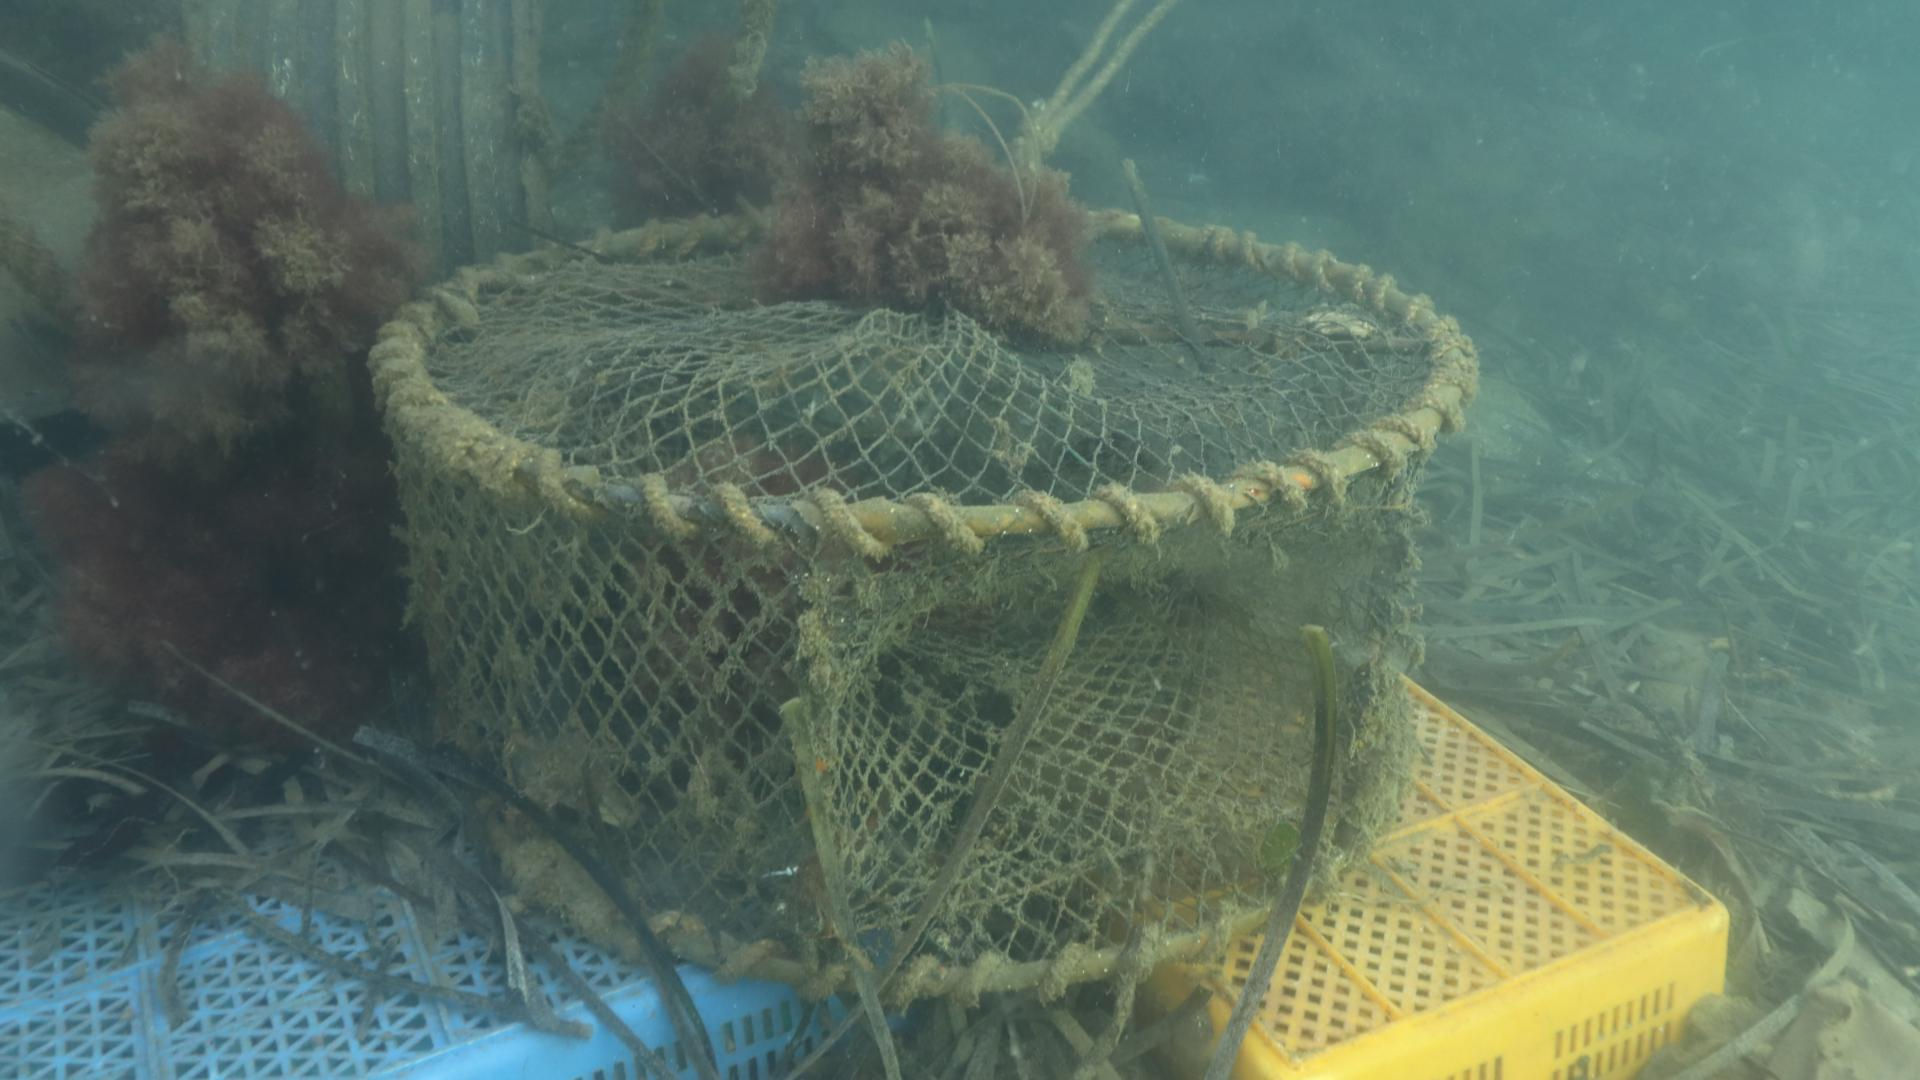bundle of ropes: (1007, 0, 1179, 166)
circular fish trap: (367, 196, 1480, 1005)
